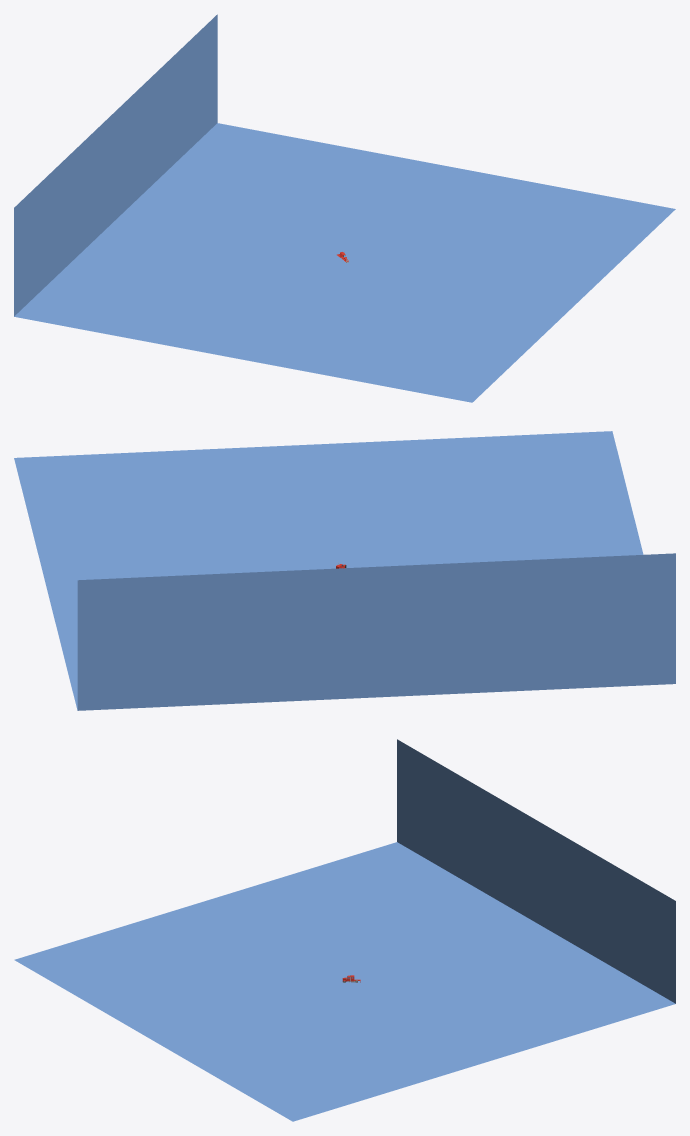
File: trailer.gltf
3 views of the same model, one above another, from view 1: azimuth 30°, elevation 25°; view 2: azimuth 150°, elevation 25°; view 3: azimuth 270°, elevation 25° (orthographic). The views are drawn at different scales.
Visible parts, largest first — view 1: Plane; view 2: Plane; view 3: Plane.
Boxes of the visible parts, left/top/right/bottom form: Plane: left=14, top=14, right=675, bottom=402; Plane: left=14, top=431, right=675, bottom=710; Plane: left=14, top=739, right=675, bottom=1121.
Bounding box in the file's own units: 303 × 51.96 × 303.
